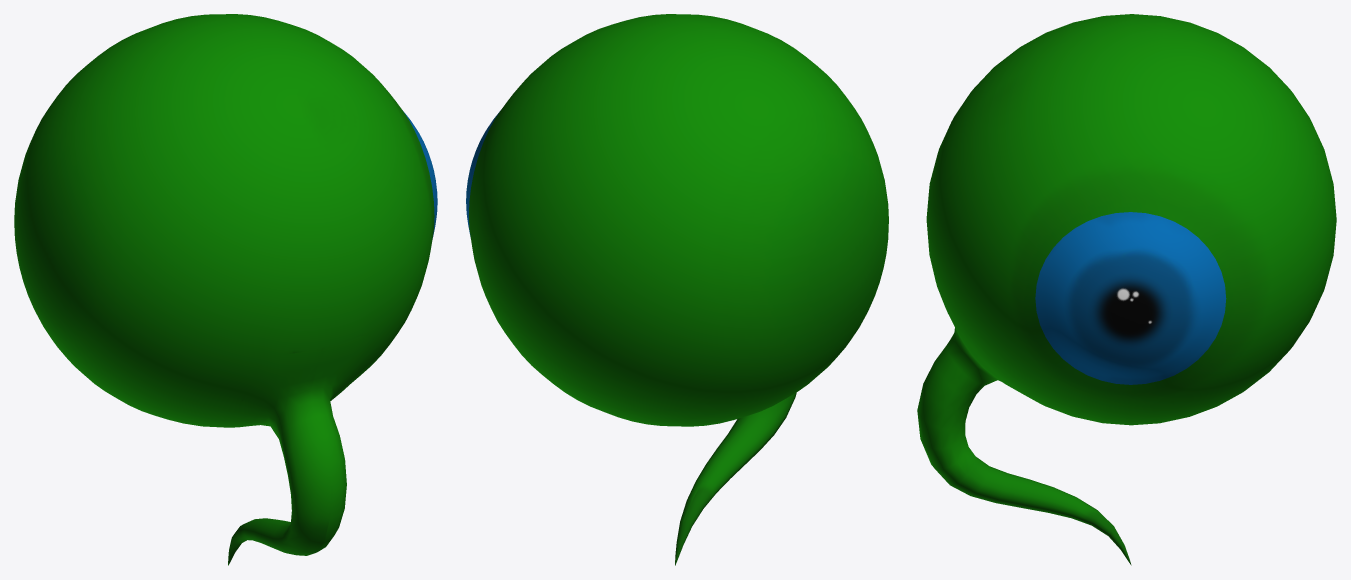
The model's file is JackFanArt.fbx.
3 renders of one model, left to right at view 1: azimuth 30°, elevation 25°; view 2: azimuth 150°, elevation 25°; view 3: azimuth 270°, elevation 25°, orthographic.
Parts seen in each view (by area): view 1: Sam; view 2: Sam; view 3: Sam.
Part boxes in pixels (bbox=[...]): Sam: bbox=[14, 14, 437, 565]; Sam: bbox=[466, 14, 888, 565]; Sam: bbox=[917, 14, 1336, 565].
Size of the model in its own units: 275 by 373 by 267.
